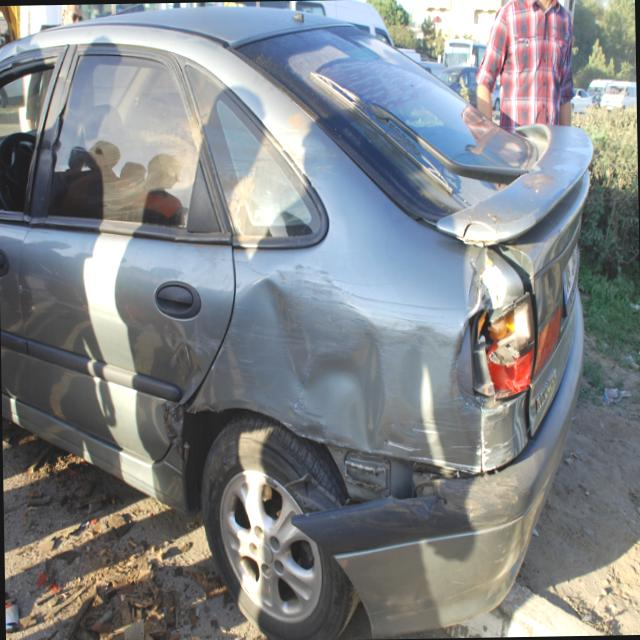Cabossage: (261, 275, 488, 493)
Dechirure: (300, 417, 515, 524)
Phare abime: (468, 299, 537, 406)
Rayure: (190, 273, 516, 474)
